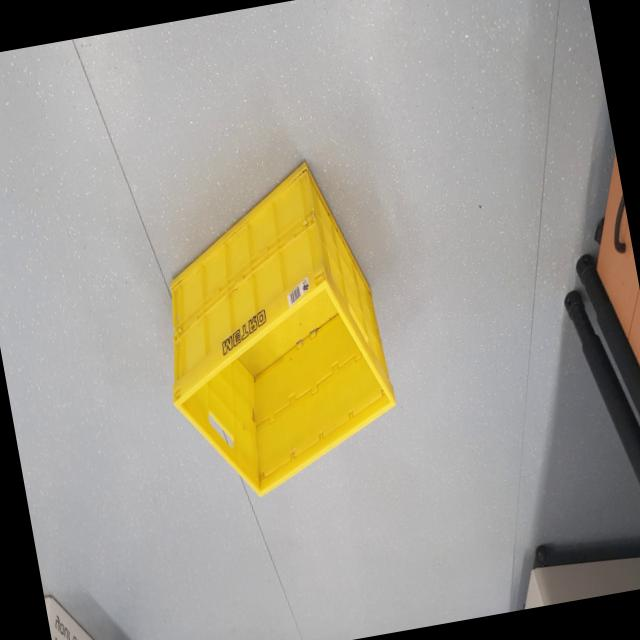box: (128, 136, 418, 526)
